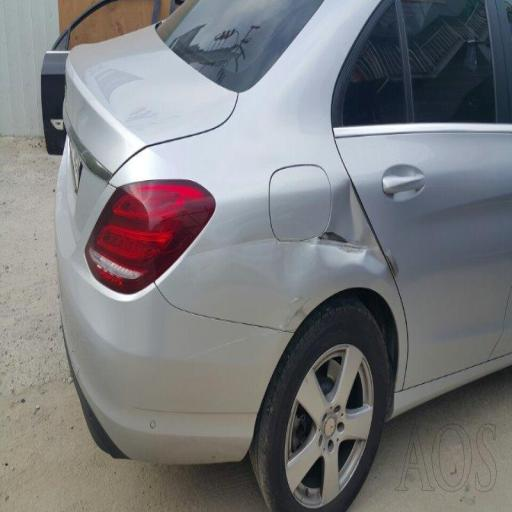broken: (300, 168, 404, 298)
scratch: (96, 21, 274, 80)
